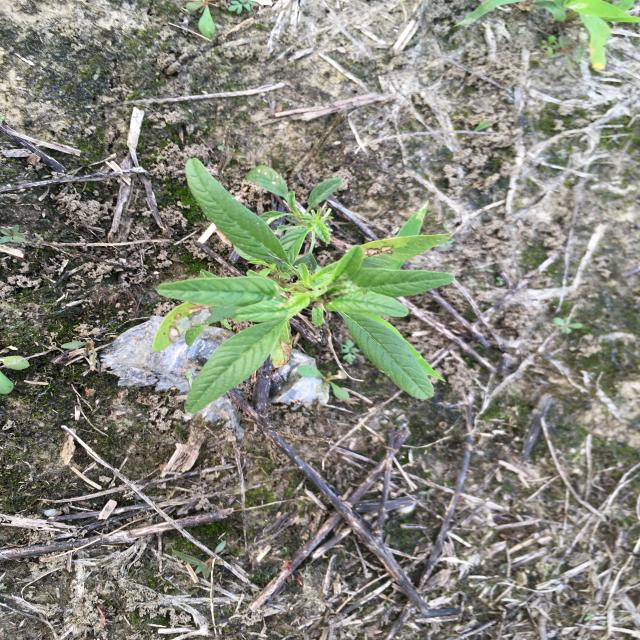Waterhemp: (149, 156, 458, 415)
